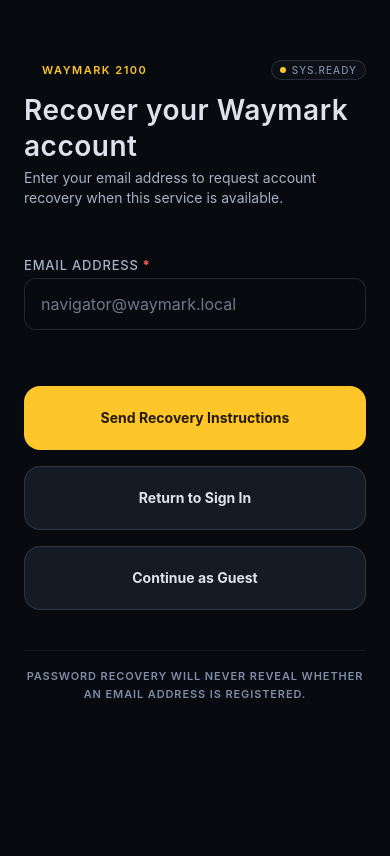
Scenario: Feature 04.2.3 — Password Recovery Screen & Flow › TC-04.2.3-16: rejects invalid email syntax for recovery
Type "not-an-email" into the field with test id "input-forgot-password-email-input".
click(195, 304); type("not-an-email")  # box [41, 284, 349, 324]
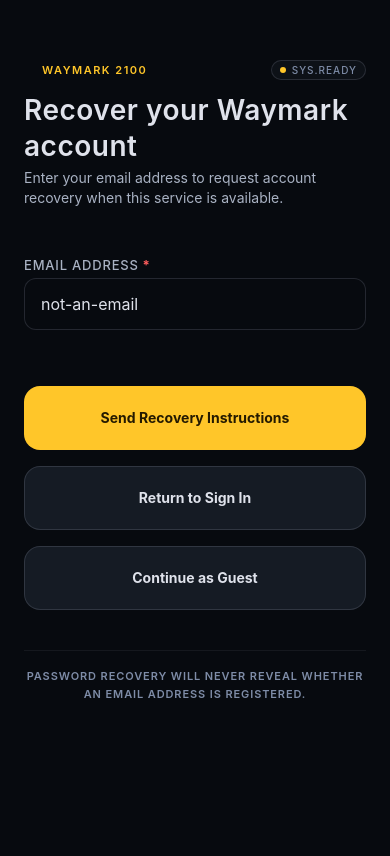
Click the button with test id "btn-submit-forgot-password".
click(195, 418)  # box [24, 386, 366, 450]
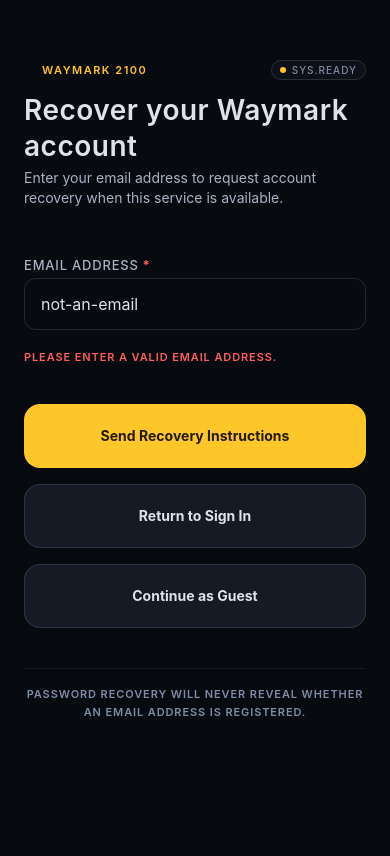
Check: the text "Please enter a valid email address." is shown, box [24, 350, 277, 364]
